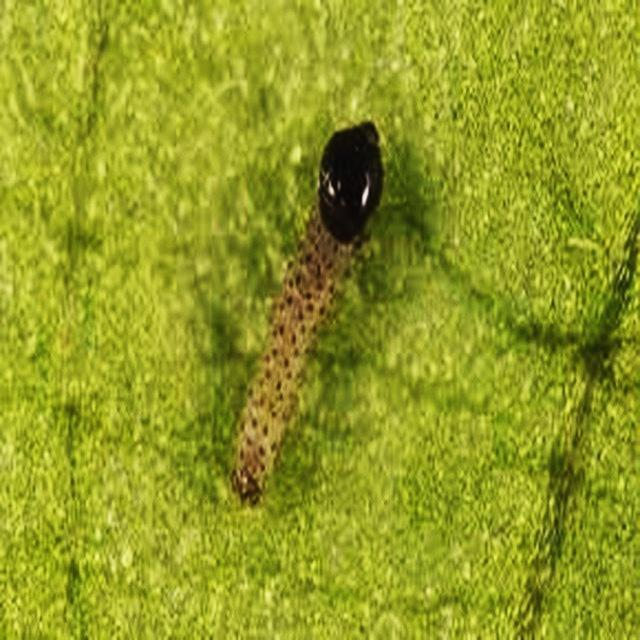gusano_cogollero: (224, 120, 389, 509)
